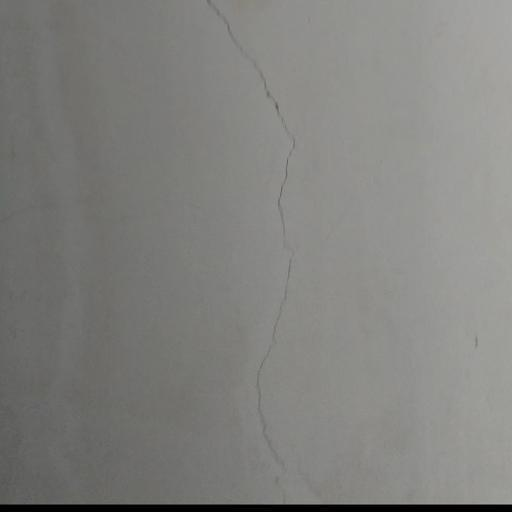minor_crack: (188, 0, 330, 512)
